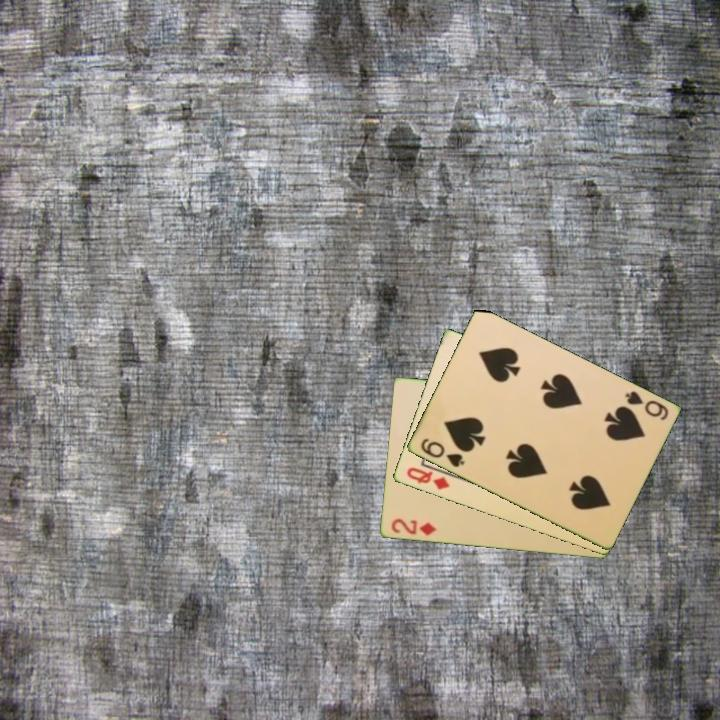2d: (387, 515, 439, 539)
6s: (417, 435, 467, 471), (621, 387, 671, 423)
Qd: (402, 464, 452, 493)
